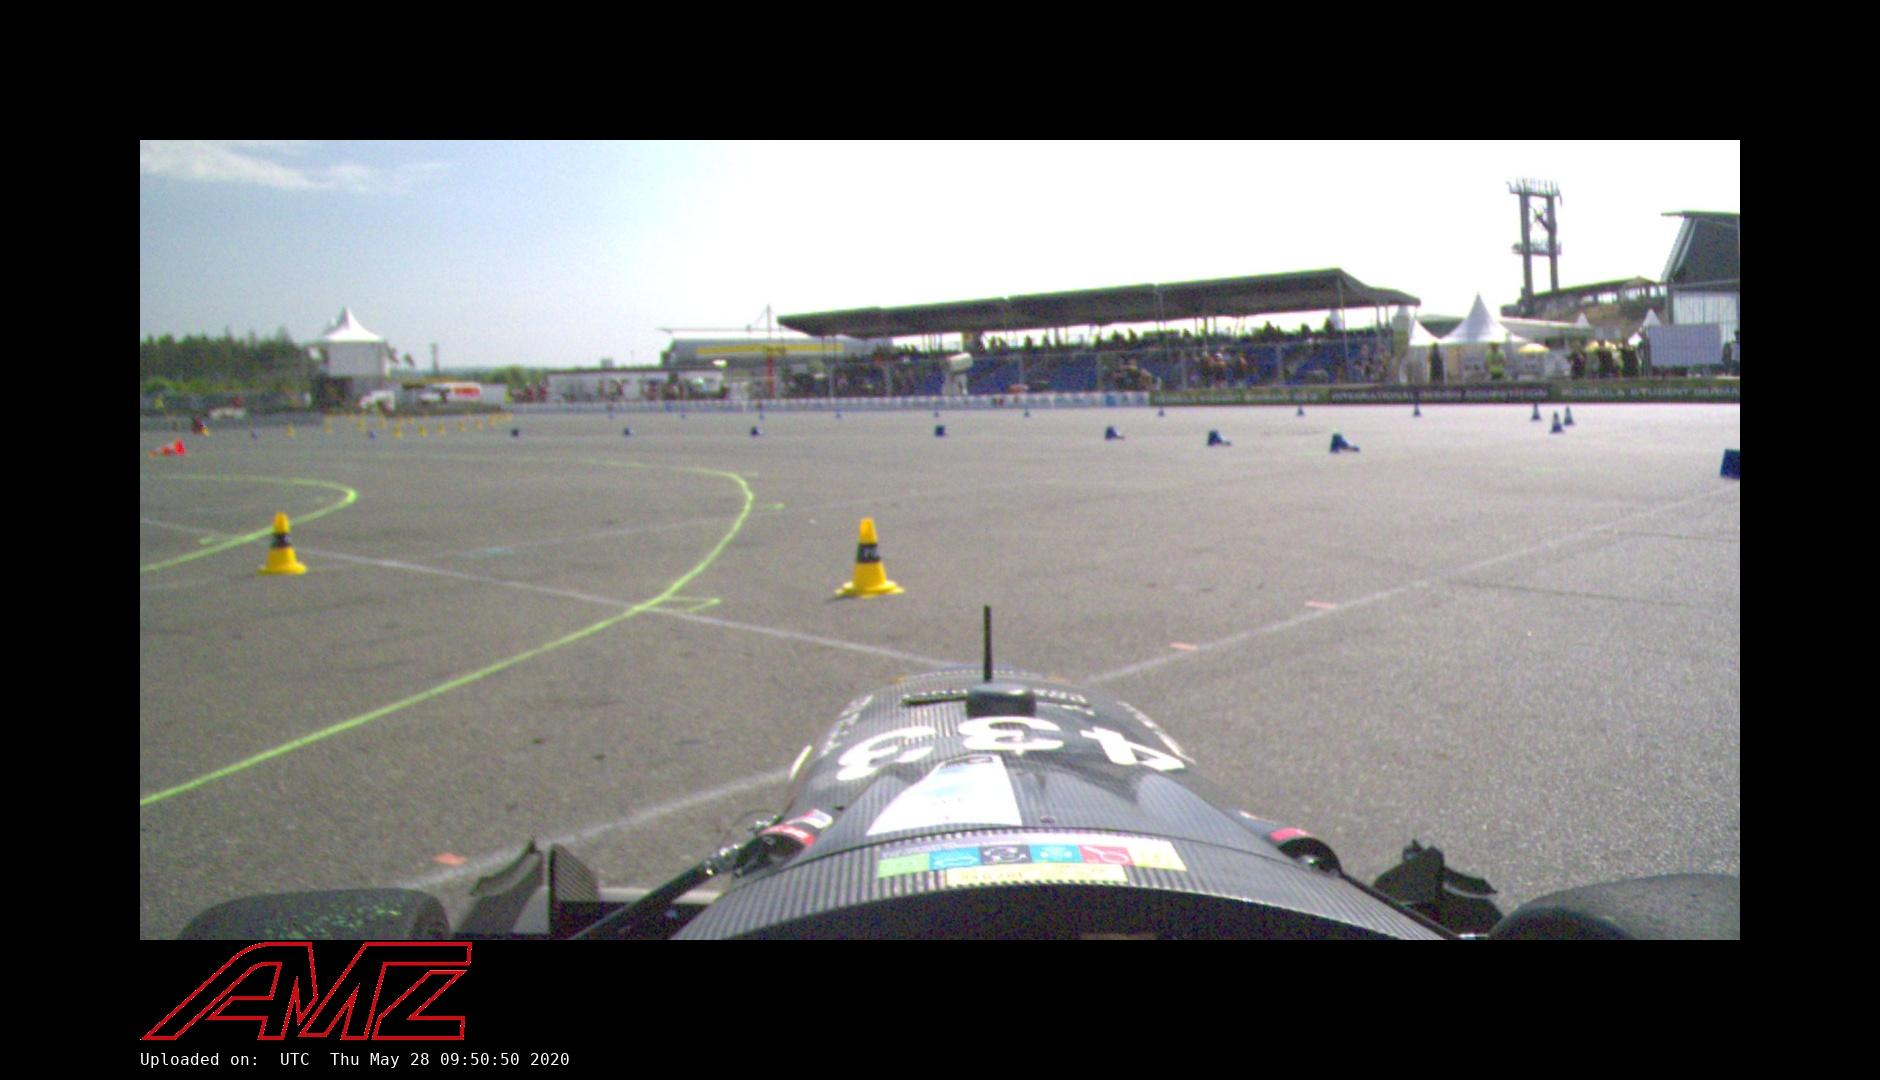blue_cone: (1327, 431, 1364, 456), (1206, 428, 1234, 448), (1549, 410, 1565, 434), (1104, 425, 1129, 441), (1561, 406, 1577, 425), (1529, 400, 1543, 421)
orange_cone: (146, 435, 187, 459)
yellow_cone: (835, 515, 903, 599), (252, 509, 312, 577)
